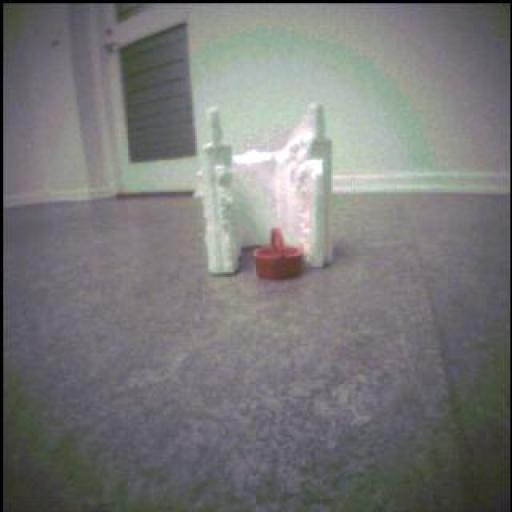Bucket: (256, 228, 304, 281)
